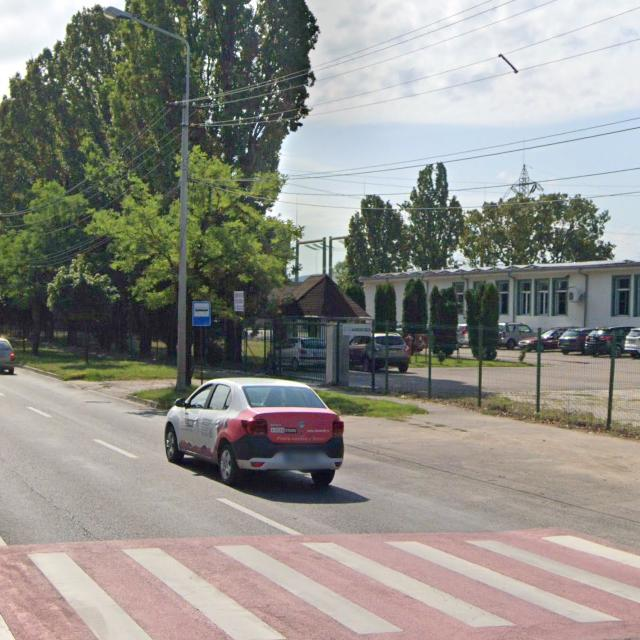info_bus_station: (192, 301, 212, 326)
